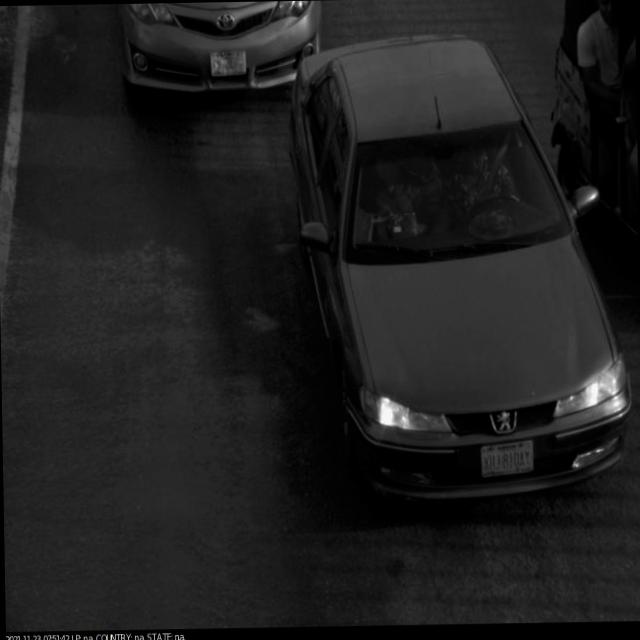person_with_seatbelt: (430, 129, 532, 242)
